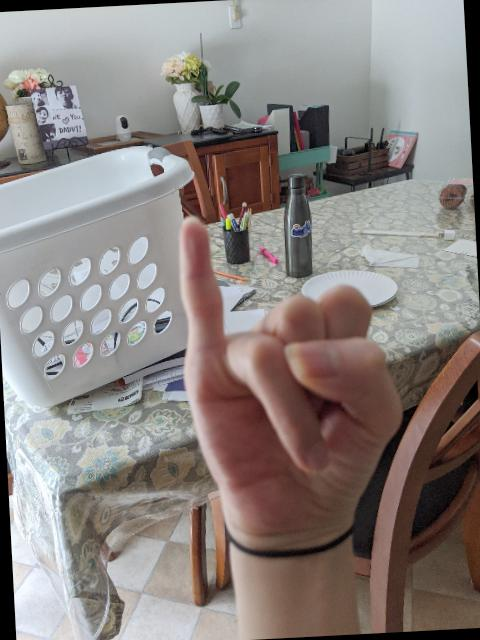I: (171, 202, 415, 559)
